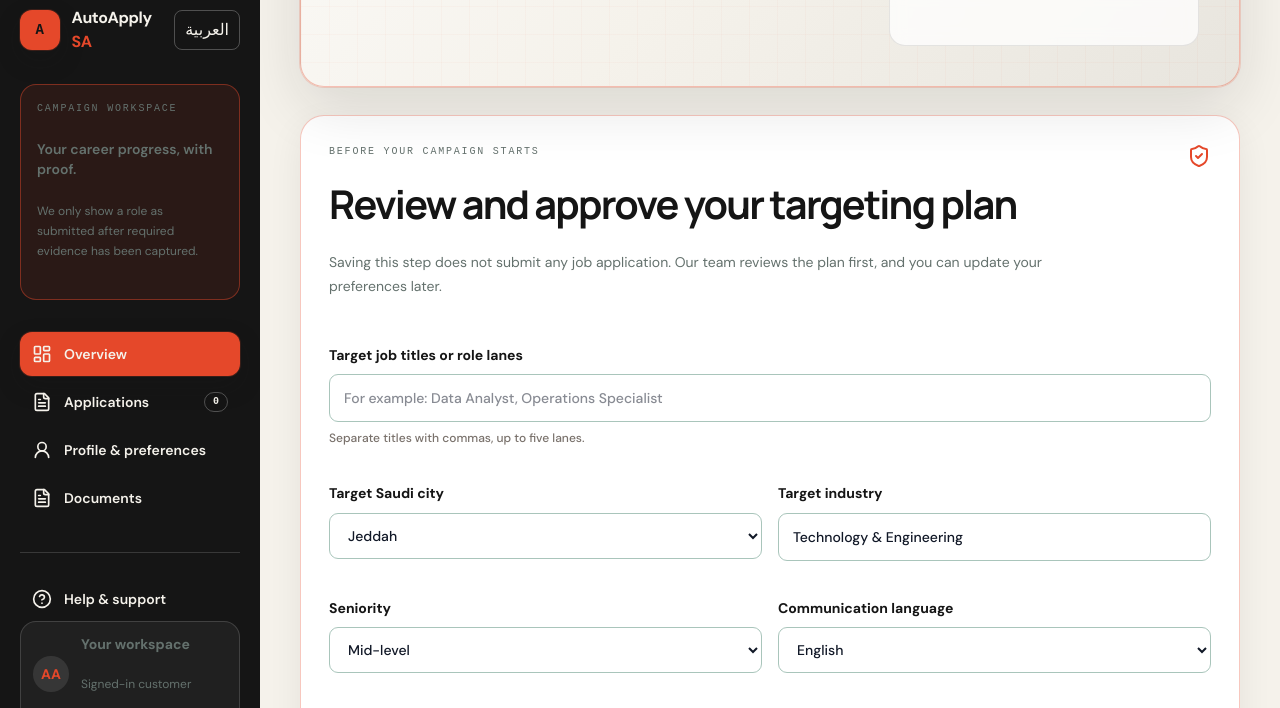
Test: FirstLoginDashboard › requires an explicit reviewed targeting approval without implying an automatic submission
Later steps or results of the test are not shown.
(page scrolled)
Expected: the text "does not submit any job application" is shown, [329,252,1042,294]
Type "Data Analyst" into the field with placeholder "For example: Data Analyst, Operations Specialist". click: x=770, y=398
box: [329,374,1211,422]
(page scrolled)
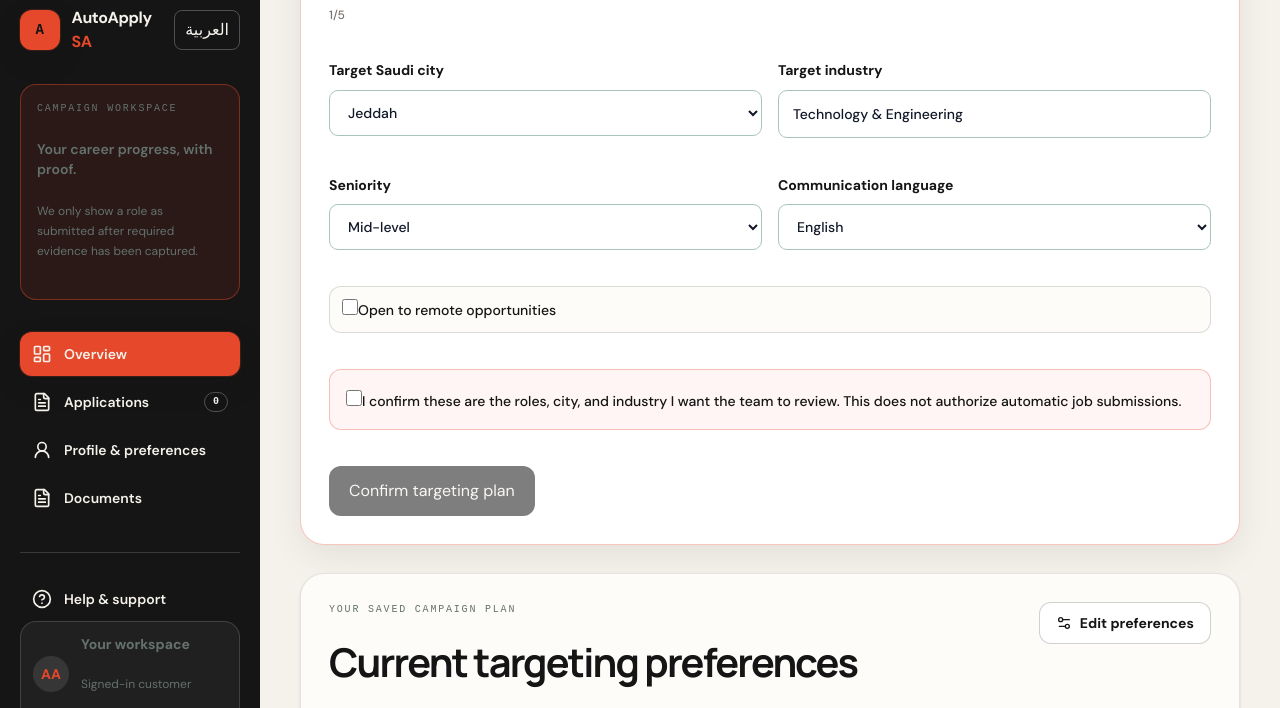
Click the checkbox labelled "I confirm these are the roles". click: x=354, y=398
box: [346,390,362,406]
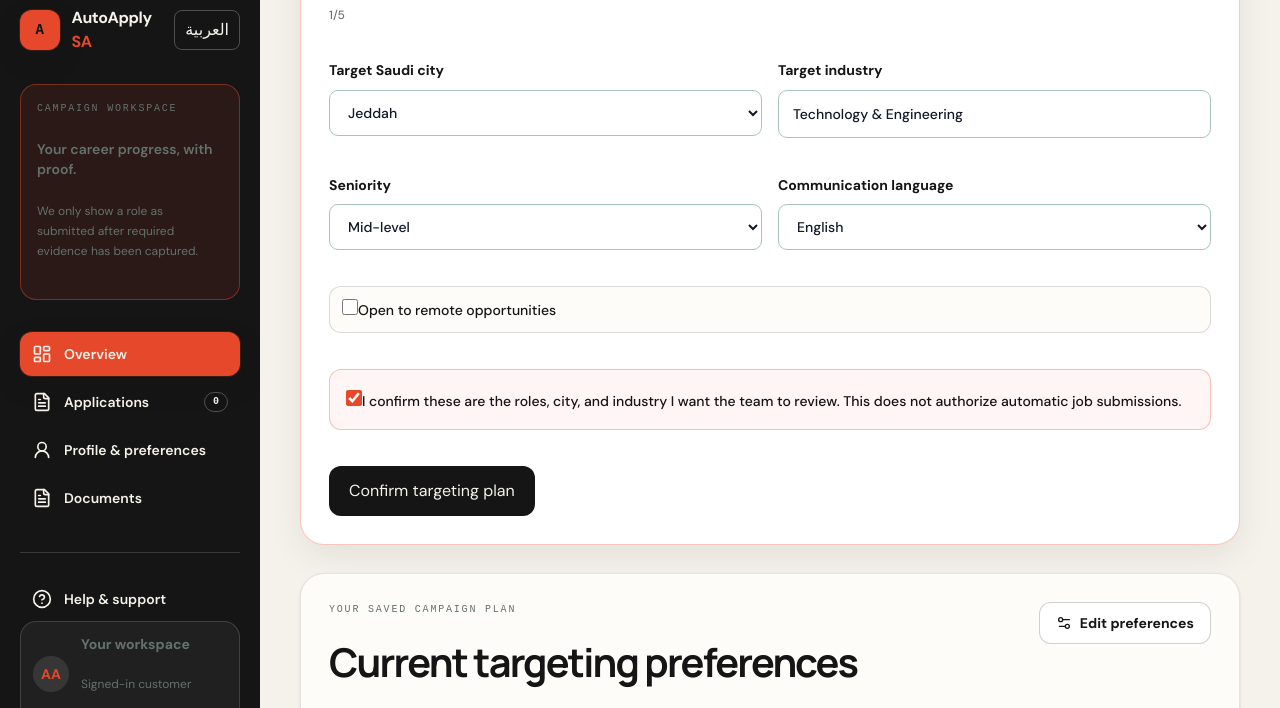
Result: the button "Confirm targeting plan" is enabled at [329,466,535,516]
